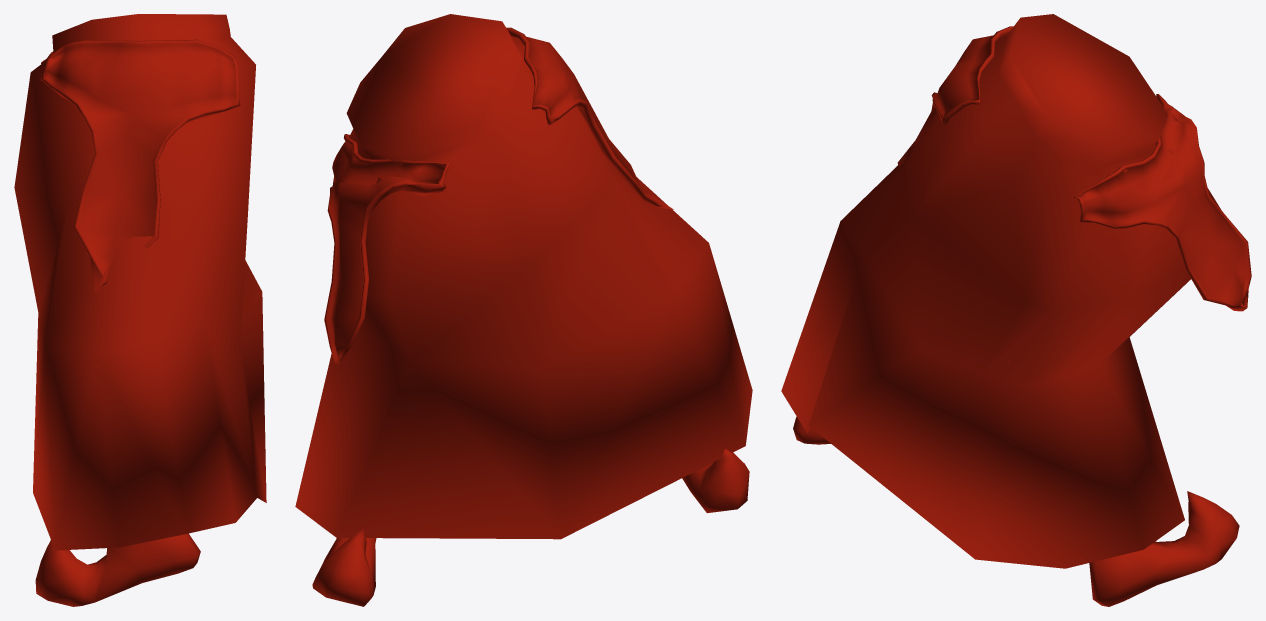
Rendered from bot_000062.obj.
3 views of the same model, side by side, from view 1: azimuth 30°, elevation 25°; view 2: azimuth 150°, elevation 25°; view 3: azimuth 270°, elevation 25° (orthographic). The views are drawn at different scales.
Parts seen in each view (by area): view 1: LowPoly_Warlock.004_Plane.004; view 2: LowPoly_Warlock.004_Plane.004; view 3: LowPoly_Warlock.004_Plane.004.
Boxes of the visible parts, box(x1,y1,x2,y2) form: LowPoly_Warlock.004_Plane.004: box(14, 14, 266, 606); LowPoly_Warlock.004_Plane.004: box(295, 14, 752, 606); LowPoly_Warlock.004_Plane.004: box(781, 14, 1251, 606).
Size of the model in its own units: 0.6822 by 1.14 by 0.9017.
